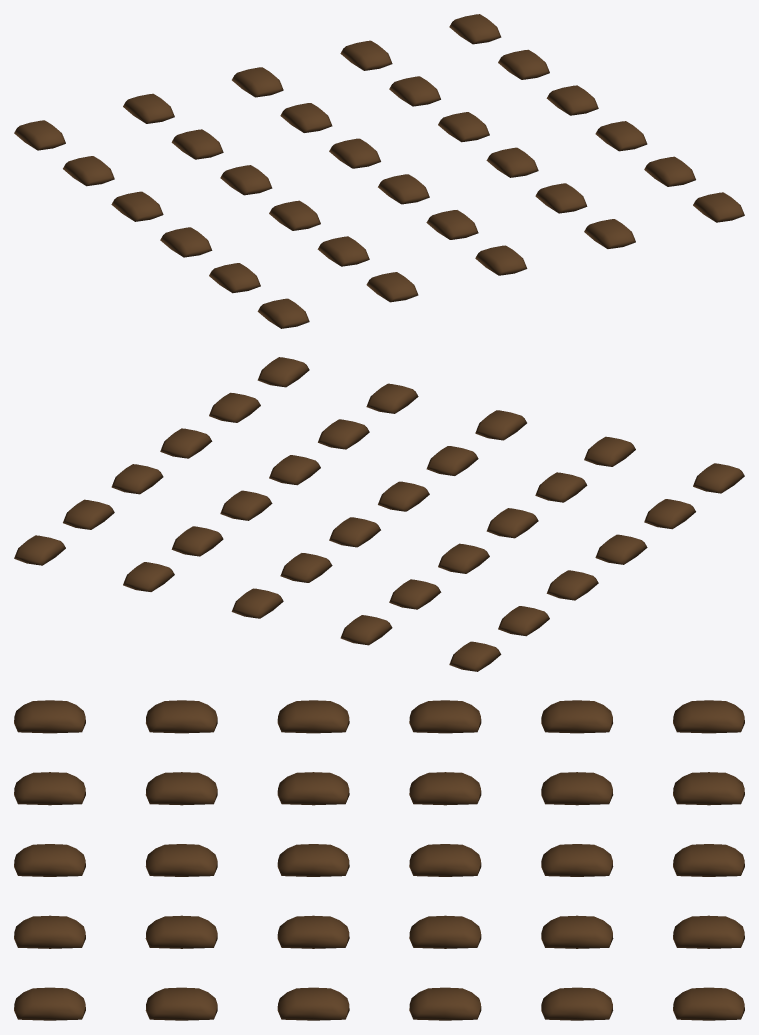
Rendered from DirtMounds Normal.fbx.
3 renders of one model, top to bottom at view 1: azimuth 30°, elevation 25°; view 2: azimuth 150°, elevation 25°; view 3: azimuth 270°, elevation 25°, orthographic. The views are drawn at different scales.
Visible parts, largest first — view 1: Dirt mound Normal; view 2: Dirt mound Normal; view 3: Dirt mound Normal.
Part boxes in pixels (x1,y1,x2,y2): Dirt mound Normal: (14,14,744,328); Dirt mound Normal: (14,357,744,671); Dirt mound Normal: (14,700,744,1020).
Size of the model in its own units: 308 by 7.13 by 309.
